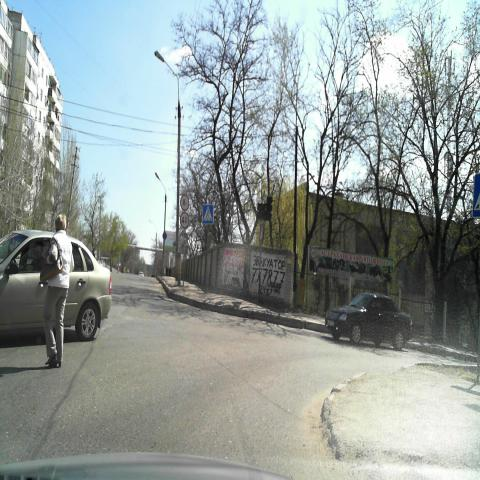3_11: (180, 194, 190, 211)
